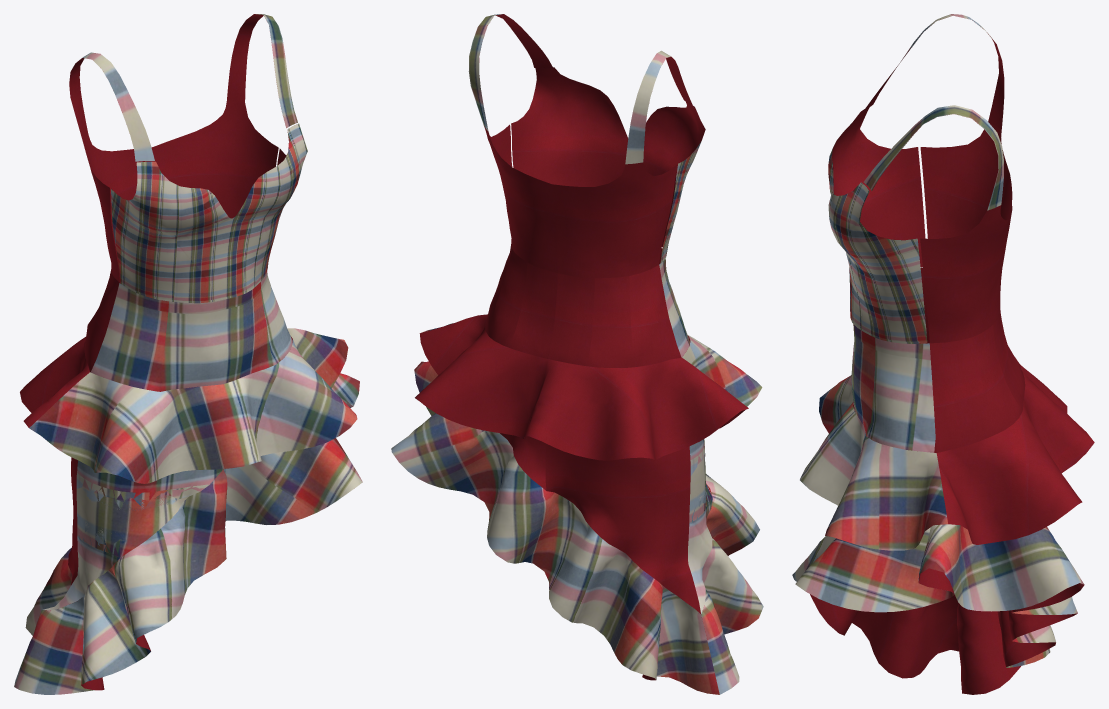
3 renders of one model, left to right at view 1: azimuth 30°, elevation 25°; view 2: azimuth 150°, elevation 25°; view 3: azimuth 270°, elevation 25°, orthographic. The views are drawn at different scales.
Visible parts, largest first — view 1: Object_4, Object_3, Object_2; view 2: Object_2, Object_4, Object_3; view 3: Object_4, Object_2, Object_3.
Boxes of the visible parts, left/top/right/bottom form: Object_4: left=14, top=14, right=362, bottom=694; Object_3: left=69, top=14, right=288, bottom=282; Object_2: left=20, top=260, right=292, bottom=690; Object_2: left=415, top=244, right=748, bottom=680; Object_4: left=391, top=14, right=763, bottom=694; Object_3: left=479, top=14, right=705, bottom=278; Object_4: left=792, top=14, right=1084, bottom=667; Object_2: left=810, top=267, right=1094, bottom=694; Object_3: left=832, top=20, right=1012, bottom=343.
Size of the model in its own units: 542 by 975 by 388.
3 materials, 3 textured.
